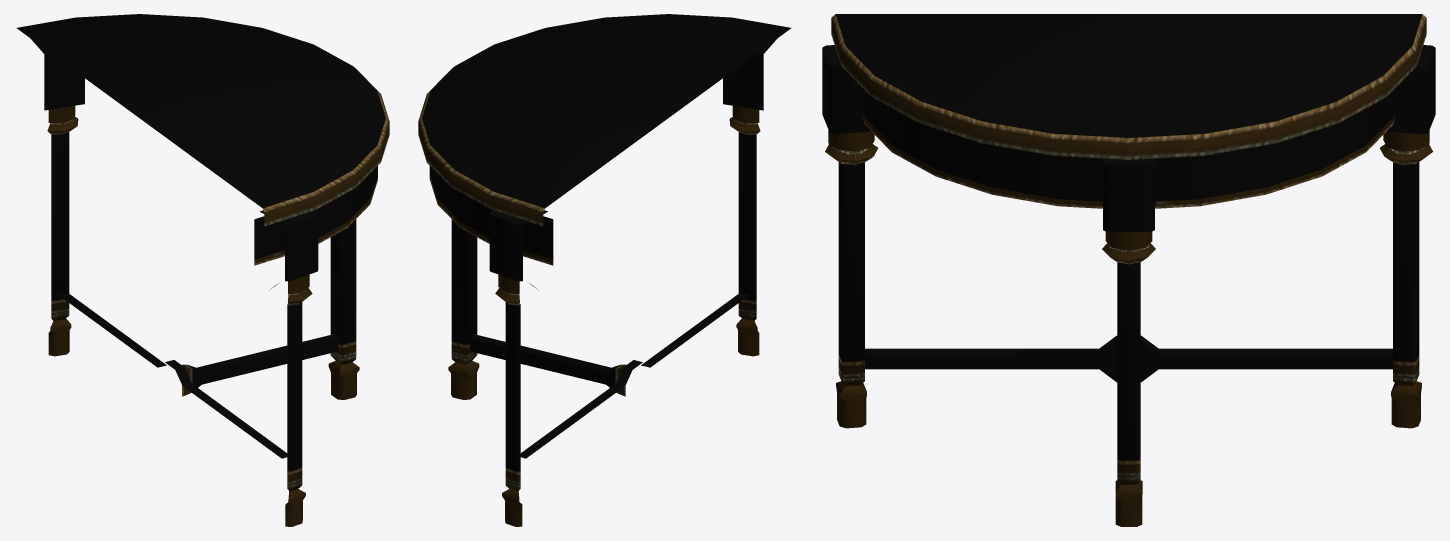
Rendered from o_mdl_env_propFurnitureTableHalfRoundSimpleA-transformed.glb.
3 renders of one model, left to right at view 1: azimuth 30°, elevation 25°; view 2: azimuth 150°, elevation 25°; view 3: azimuth 270°, elevation 25°, orthographic. The views are drawn at different scales.
Parts seen in each view (by area): view 1: default; view 2: default; view 3: default.
Boxes of the visible parts, <box> form: default: <box>17,14,389,526</box>; default: <box>418,14,790,526</box>; default: <box>822,14,1435,526</box>.
Size of the model in its own units: 0.6489 by 0.9018 by 1.29.
Materials: 1 (1 with a texture image).
